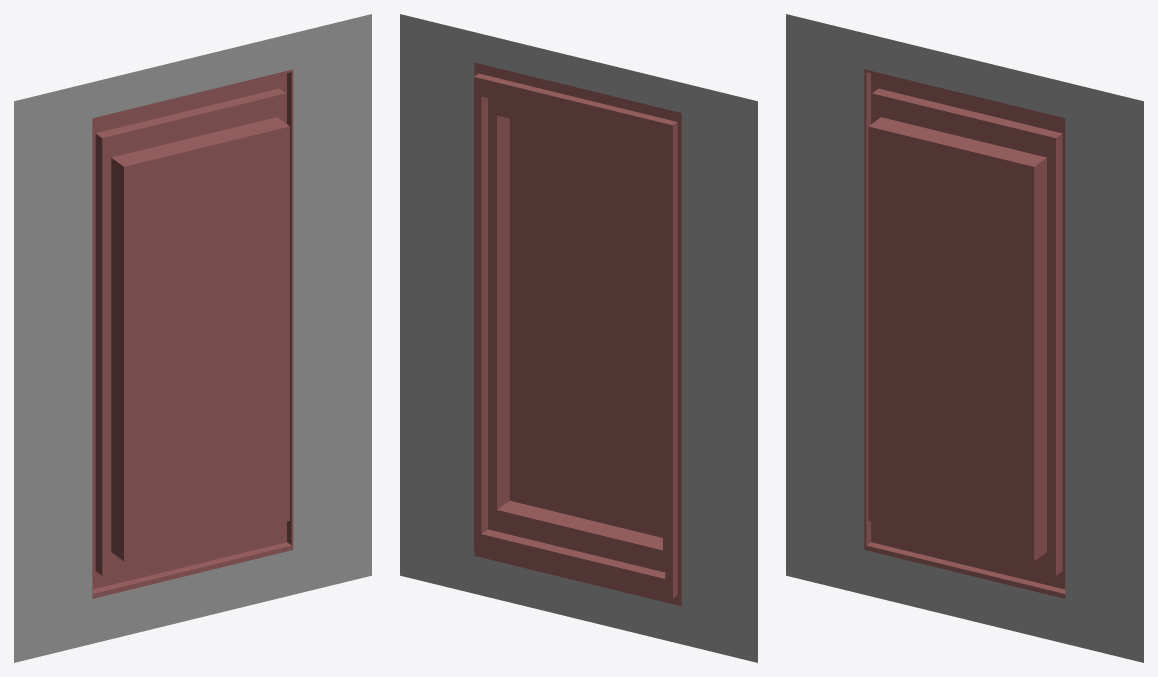
File: 2x3OldLargeWindow.fbx
3 views of the same model, side by side, from view 1: azimuth 30°, elevation 25°; view 2: azimuth 150°, elevation 25°; view 3: azimuth 330°, elevation 25° (orthographic).
Visible parts, largest first — view 1: polySurface73; view 2: polySurface73; view 3: polySurface73.
Part boxes in pixels (x1=…): polySurface73: x1=14, y1=14, x2=371, y2=662; polySurface73: x1=400, y1=14, x2=757, y2=662; polySurface73: x1=786, y1=14, x2=1143, y2=662.
Size of the model in its own units: 2 by 3 by 0.1874.
